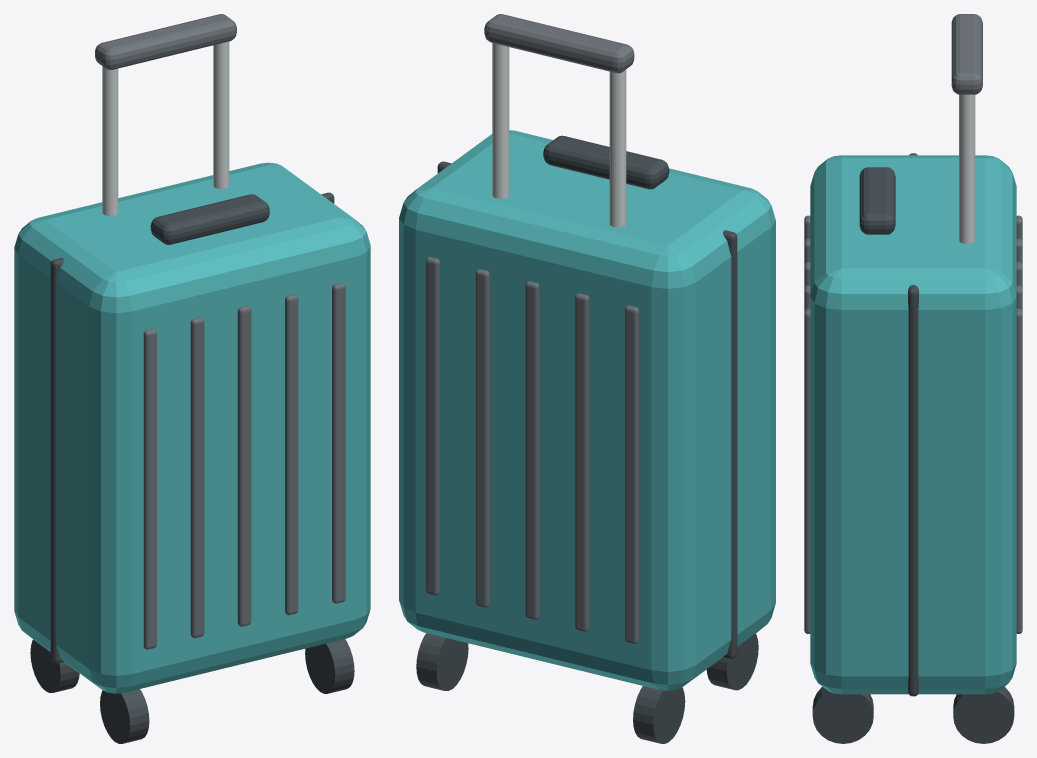
Rendered from cabin-suitcase.glb.
3 views of the same model, side by side, from view 1: azimuth 30°, elevation 25°; view 2: azimuth 150°, elevation 25°; view 3: azimuth 270°, elevation 25° (orthographic). The views are drawn at different scales.
Visible parts, largest first — view 1: Shell, ShellRib0.1171, ShellRib0.1172, ShellRib0.1173, ShellRib0.1170, ShellRib0.1174, HandleGrip, CarryHandle, ZipperBand, HandleRod-0.072, HandleRod0.072, Wheel-0.133199999999999990.0782 (+2 smaller); view 2: Shell, ShellRib-0.1171, ShellRib-0.1172, ShellRib-0.1173, ShellRib-0.1170, ShellRib-0.1174, HandleGrip, CarryHandle, ZipperBand, HandleRod-0.072, HandleRod0.072, Wheel-0.13319999999999999-0.0782 (+2 smaller); view 3: Shell, ZipperBand, Wheel0.13319999999999999-0.0782, Wheel0.133199999999999990.0782, HandleRod0.072, HandleGrip, CarryHandle, ShellRib-0.1174, ShellRib0.1174.
Boxes of the visible parts, x1=… form: Shell: x1=14, y1=162, x2=370, y2=693; ShellRib0.1171: x1=190, y1=317, x2=204, y2=637; ShellRib0.1172: x1=237, y1=306, x2=251, y2=626; ShellRib0.1173: x1=285, y1=294, x2=298, y2=615; ShellRib0.1170: x1=143, y1=328, x2=156, y2=649; ShellRib0.1174: x1=332, y1=283, x2=345, y2=603; HandleGrip: x1=95, y1=14, x2=236, y2=69; CarryHandle: x1=150, y1=194, x2=269, y2=244; ZipperBand: x1=50, y1=192, x2=334, y2=663; HandleRod-0.072: x1=102, y1=66, x2=118, y2=215; HandleRod0.072: x1=213, y1=41, x2=229, y2=188; Wheel-0.133199999999999990.0782: x1=100, y1=689, x2=149, y2=743; Shell: x1=399, y1=130, x2=775, y2=690; ShellRib-0.1171: x1=575, y1=293, x2=589, y2=632; ShellRib-0.1172: x1=525, y1=281, x2=539, y2=619; ShellRib-0.1173: x1=475, y1=269, x2=489, y2=607; ShellRib-0.1170: x1=625, y1=305, x2=639, y2=644; ShellRib-0.1174: x1=425, y1=257, x2=439, y2=595; HandleGrip: x1=484, y1=14, x2=634, y2=73; CarryHandle: x1=543, y1=135, x2=669, y2=189; ZipperBand: x1=437, y1=161, x2=737, y2=659; HandleRod-0.072: x1=609, y1=69, x2=626, y2=227; HandleRod0.072: x1=492, y1=43, x2=509, y2=198; Wheel-0.13319999999999999-0.0782: x1=633, y1=686, x2=685, y2=743; Shell: x1=810, y1=155, x2=1016, y2=694; ZipperBand: x1=908, y1=153, x2=918, y2=696; Wheel0.13319999999999999-0.0782: x1=953, y1=687, x2=1014, y2=743; Wheel0.133199999999999990.0782: x1=812, y1=687, x2=873, y2=743; HandleRod0.072: x1=959, y1=94, x2=975, y2=243; HandleGrip: x1=951, y1=14, x2=982, y2=94; CarryHandle: x1=859, y1=167, x2=895, y2=234; ShellRib-0.1174: x1=1016, y1=308, x2=1022, y2=633; ShellRib0.1174: x1=804, y1=308, x2=810, y2=633.
Bounding box in the file's own units: 0.366 × 0.792 × 0.243.
